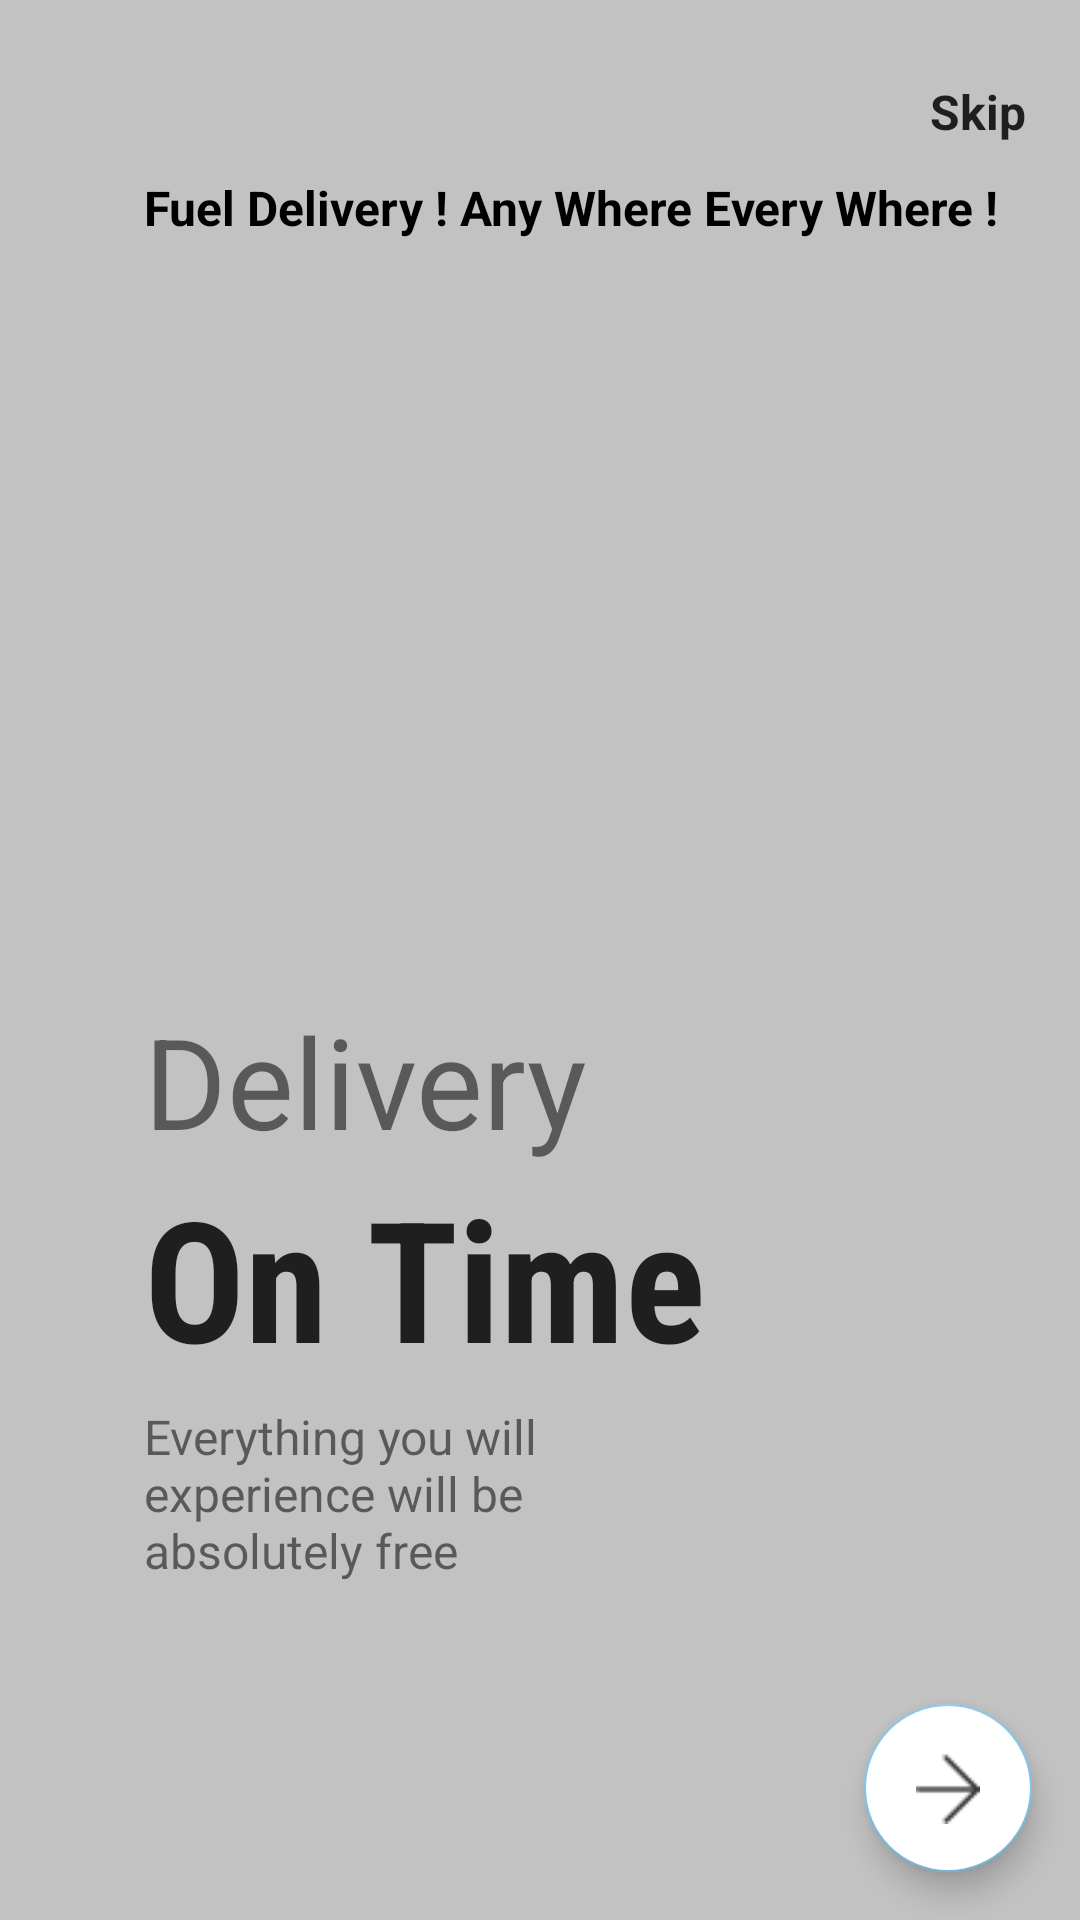

Where icons sit on this 1080*1920 app screen, as (x1, y1, x2, y2):
arrow: (864, 1704, 1032, 1872)
